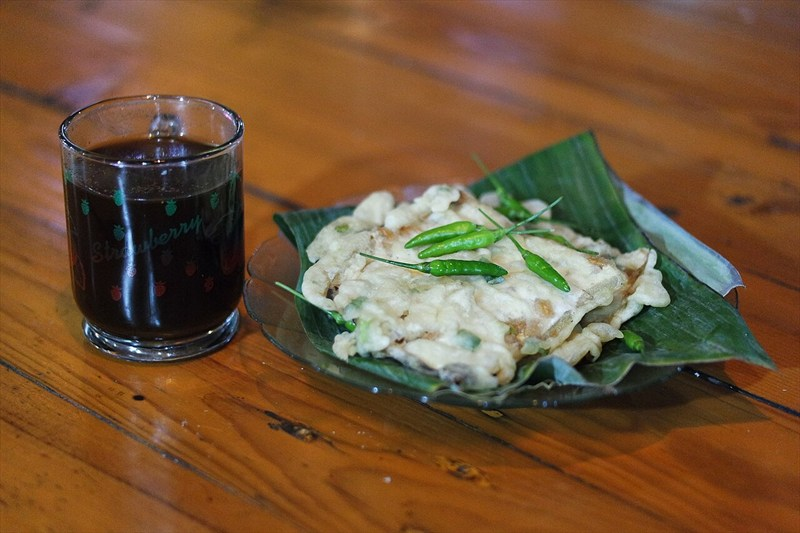Tempe Goreng: (97, 172, 703, 392)
